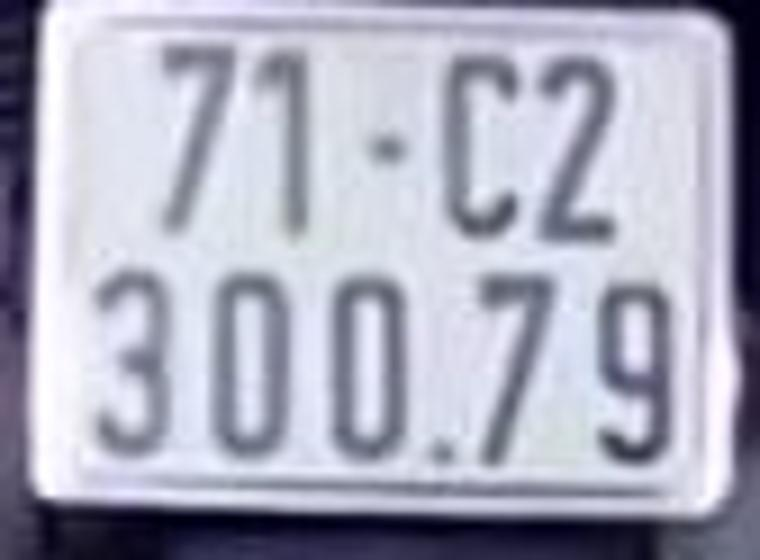-: (366, 131, 414, 172)
.: (424, 430, 464, 469)
0: (317, 260, 422, 470), (204, 260, 296, 461)
1: (247, 47, 328, 248)
2: (535, 49, 627, 255)
3: (81, 261, 183, 461)
7: (464, 262, 564, 475), (157, 45, 240, 236)
9: (597, 270, 686, 468)
C: (434, 50, 527, 242)
